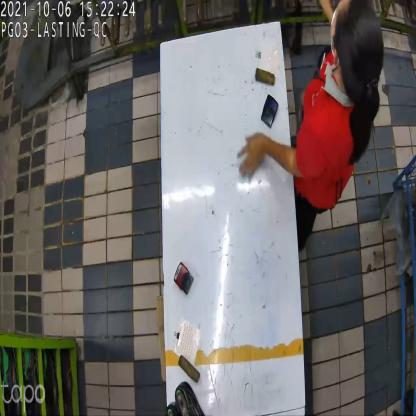stamp: (259, 95, 279, 130), (175, 262, 193, 296)
